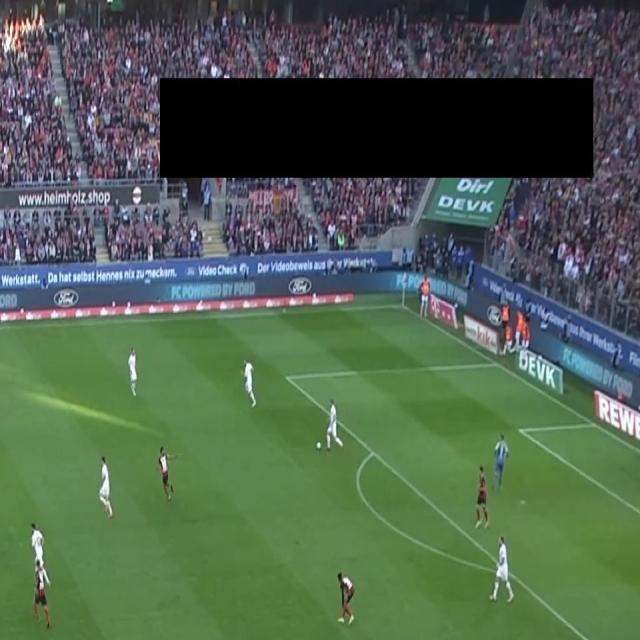ball: (316, 440, 322, 450)
